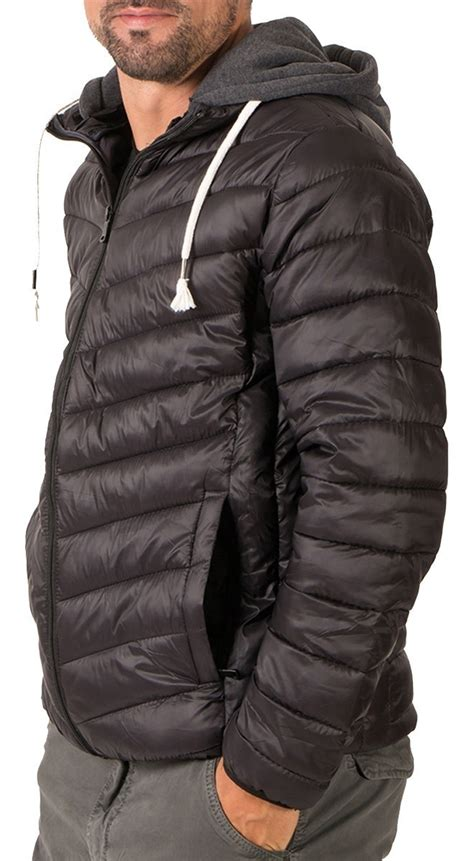nylon: (24, 59, 450, 807)
